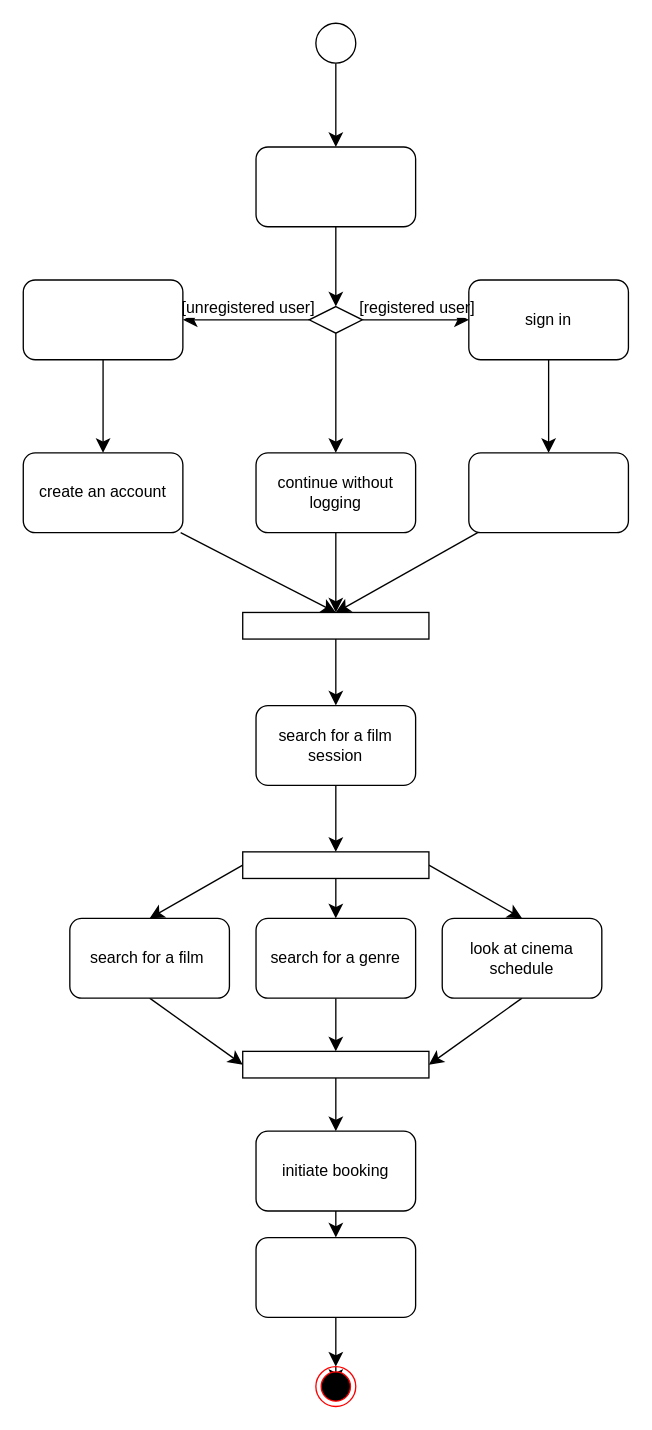
This 652x1430 diagram has some shape labels left out. The centre of each missing label's shape, as x and y in pixels:
check login & password: the point at 547,492
confirm booking: the point at 335,1276
Open the app: the point at 335,186
sign up: the point at 102,319
